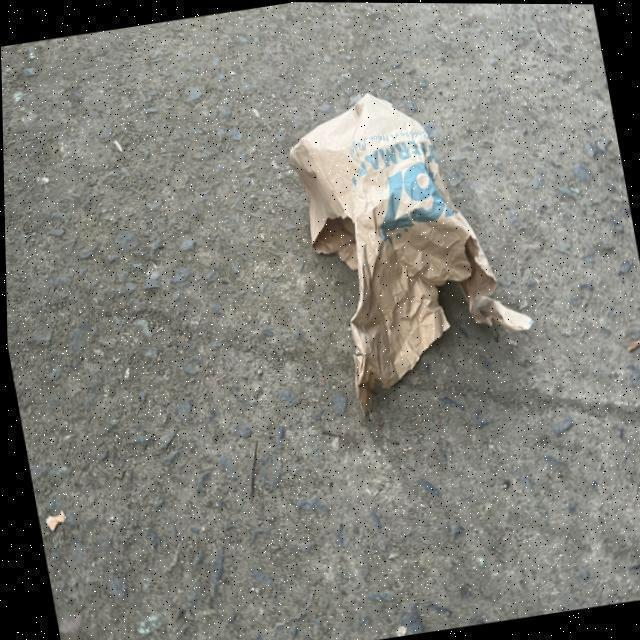Paper_Bag: (285, 68, 547, 422)
